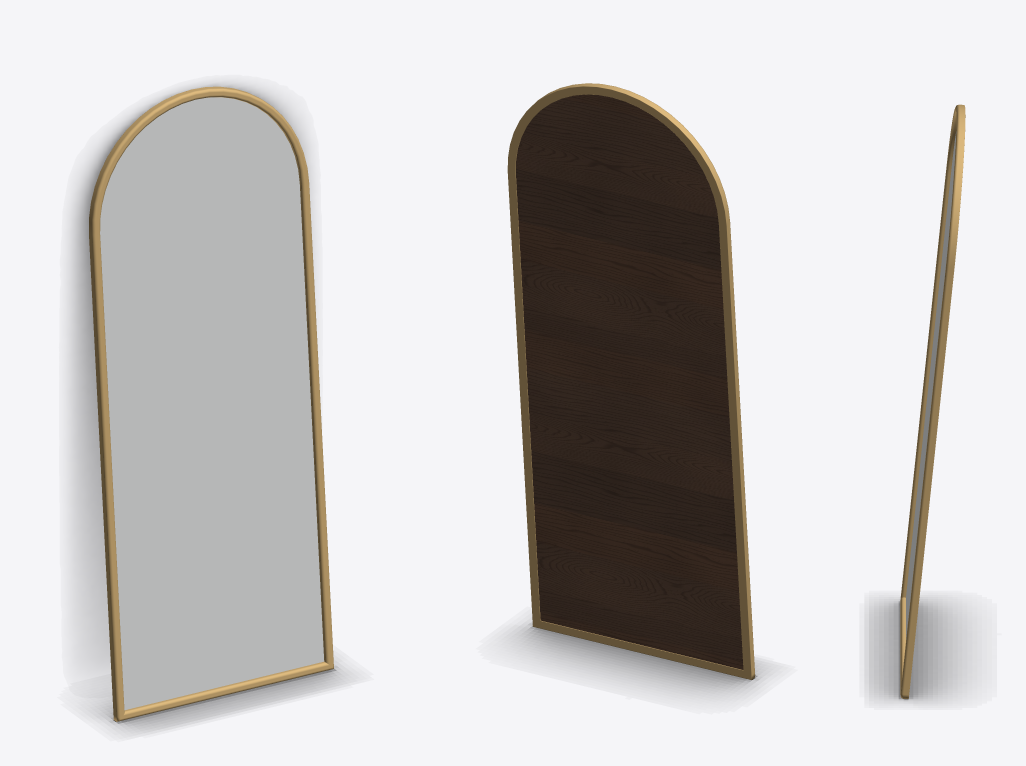
The model's file is floor_mirror.glb.
3 views of the same model, side by side, from view 1: azimuth 30°, elevation 25°; view 2: azimuth 150°, elevation 25°; view 3: azimuth 270°, elevation 25° (orthographic). The views are drawn at different scales.
Visible parts, largest first — view 1: floor_mirror_LOD0, floor_mirror_Shadow; view 2: floor_mirror_LOD0, floor_mirror_Shadow; view 3: floor_mirror_LOD0, floor_mirror_Shadow.
Boxes of the visible parts, x1=… form: floor_mirror_LOD0: x1=89, y1=86, x2=333, y2=721; floor_mirror_Shadow: x1=73, y1=84, x2=343, y2=730; floor_mirror_LOD0: x1=507, y1=83, x2=755, y2=679; floor_mirror_Shadow: x1=515, y1=622, x2=765, y2=693; floor_mirror_LOD0: x1=900, y1=104, x2=965, y2=698; floor_mirror_Shadow: x1=869, y1=599, x2=962, y2=701.
Size of what is drawn, in the model's own units: 0.98 by 2.03 by 0.4774.
Materials: 5 (3 with a texture image).
